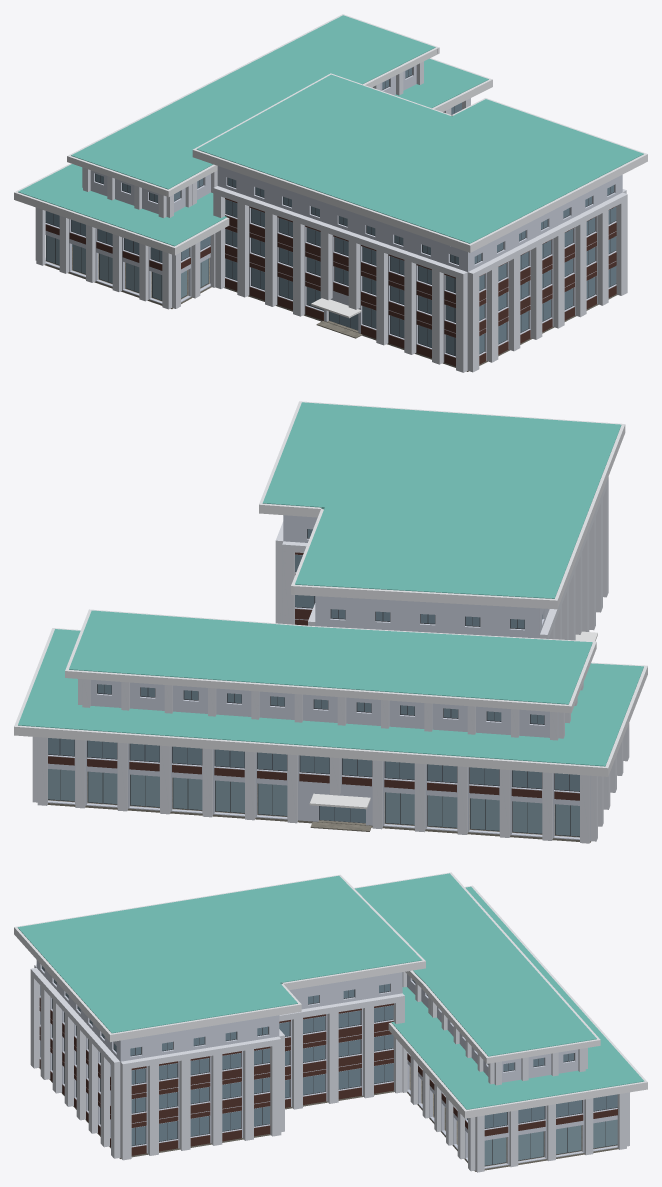
3 renders of one model, top to bottom at view 1: azimuth 30°, elevation 25°; view 2: azimuth 150°, elevation 25°; view 3: azimuth 270°, elevation 25°, orthographic. The views are drawn at different scales.
Parts seen in each view (by area): view 1: main-arts__greenroof, main-arts__pier, main-arts__white, main-arts__glass, main-arts__fascia, main-arts__spandrel, main-arts__darkframe, main-arts__hallglass, main-arts__stone; view 2: main-arts__greenroof, main-arts__white, main-arts__pier, main-arts__fascia, main-arts__hallglass, main-arts__glass, main-arts__spandrel, main-arts__darkframe, main-arts__stone, main-arts__canopy; view 3: main-arts__greenroof, main-arts__pier, main-arts__white, main-arts__fascia, main-arts__glass, main-arts__spandrel, main-arts__hallglass, main-arts__darkframe, main-arts__stone.
Boxes of the visible parts, x1,y1,x2,y2 form: main-arts__greenroof: [18, 15, 643, 246]; main-arts__pier: [35, 61, 627, 372]; main-arts__white: [45, 65, 622, 369]; main-arts__glass: [45, 68, 616, 355]; main-arts__fascia: [14, 14, 647, 255]; main-arts__spandrel: [45, 198, 616, 366]; main-arts__darkframe: [45, 68, 616, 356]; main-arts__hallglass: [46, 235, 208, 300]; main-arts__stone: [45, 247, 617, 371]; main-arts__greenroof: [18, 402, 643, 766]; main-arts__white: [48, 515, 590, 840]; main-arts__pier: [32, 477, 629, 843]; main-arts__fascia: [14, 401, 647, 776]; main-arts__hallglass: [48, 769, 579, 836]; main-arts__glass: [48, 529, 579, 823]; main-arts__spandrel: [48, 552, 579, 800]; main-arts__darkframe: [48, 529, 579, 836]; main-arts__stone: [47, 772, 590, 842]; main-arts__canopy: [309, 631, 597, 809]; main-arts__greenroof: [17, 873, 644, 1109]; main-arts__pier: [30, 964, 629, 1172]; main-arts__white: [36, 960, 617, 1169]; main-arts__fascia: [14, 872, 647, 1118]; main-arts__glass: [40, 966, 617, 1145]; main-arts__spandrel: [39, 998, 617, 1155]; main-arts__hallglass: [484, 1119, 617, 1165]; main-arts__darkframe: [40, 968, 617, 1165]; main-arts__stone: [39, 1066, 618, 1171].
Size of the model in its own units: 66.98 by 18.57 by 79.46.
Materials: 11 (3 with a texture image).
